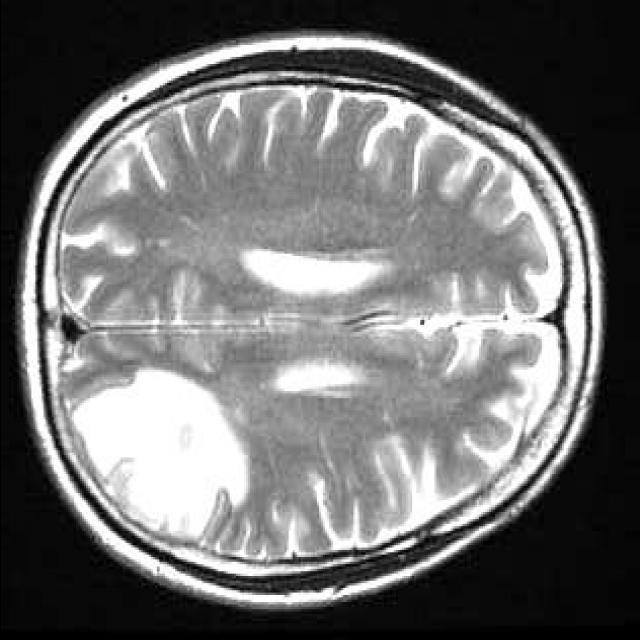tumor: (55, 367, 247, 543)
